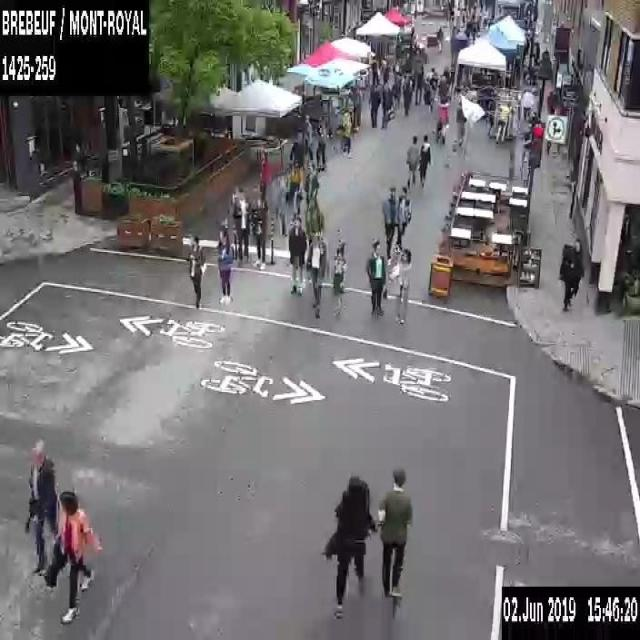pedestrian: (324, 469, 376, 616), (56, 487, 98, 625), (378, 468, 416, 599), (25, 440, 59, 578), (365, 234, 388, 317), (388, 246, 412, 324), (306, 228, 328, 310), (284, 214, 305, 295), (559, 236, 582, 309), (230, 188, 251, 264), (381, 183, 399, 259), (215, 229, 232, 304), (187, 233, 203, 307), (252, 192, 267, 268), (284, 159, 304, 213), (302, 197, 324, 246), (332, 239, 345, 317), (398, 183, 410, 260), (406, 132, 418, 196), (417, 131, 429, 192), (304, 160, 319, 208), (518, 120, 531, 171), (256, 151, 269, 202), (494, 98, 508, 142), (437, 94, 449, 145), (315, 120, 327, 171), (425, 66, 437, 110), (340, 105, 350, 154), (456, 98, 468, 138), (414, 58, 424, 104), (403, 70, 413, 116), (391, 64, 401, 110), (368, 82, 378, 127), (380, 82, 390, 127), (304, 112, 313, 161), (521, 85, 531, 122), (371, 52, 378, 86), (469, 12, 476, 41), (436, 27, 443, 52)
